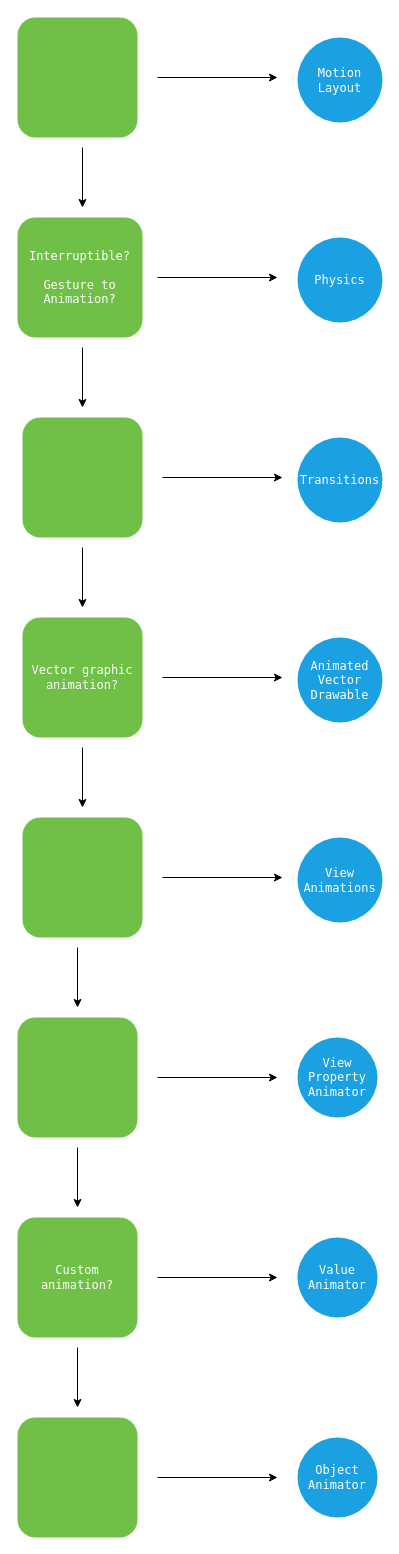
Image size: 399x1554. Some labels were removed from this diagram. The centre of each missing label's shape, as x and y in pixels:
Complex coordinated layout? Gesture to Animation?: point 77,77
General purpose property animation: point 77,1477
Shared element or window content?: point 82,477
View properties?: point 77,1077
Window animation?: point 82,877
